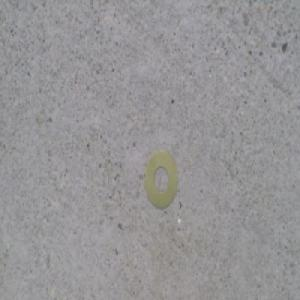Washer: (145, 148, 179, 205)
